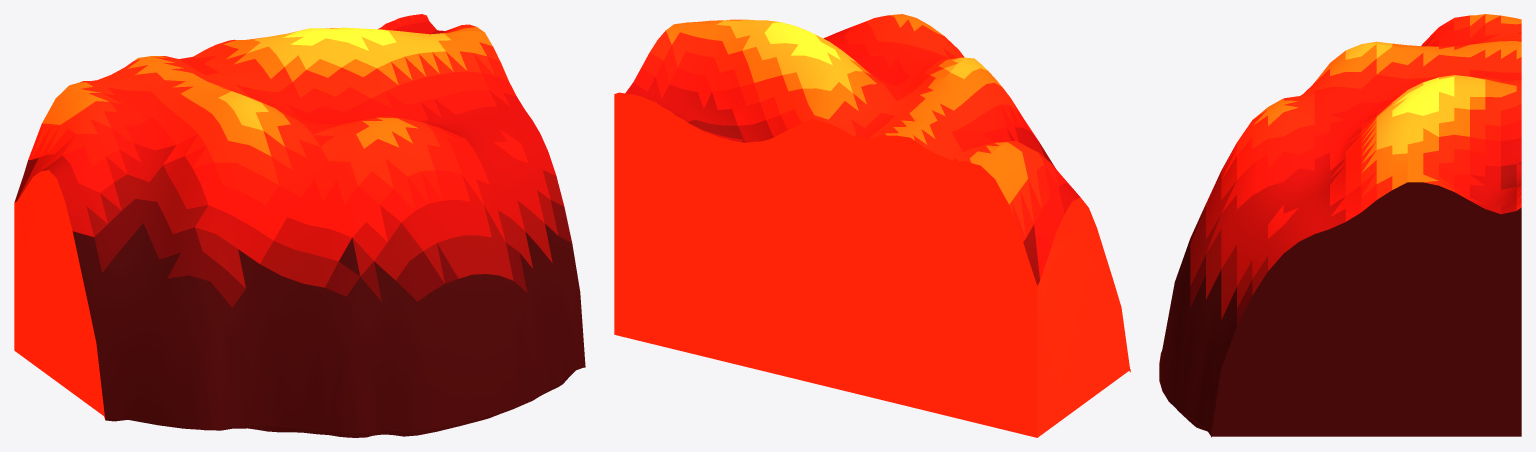
The model's file is core_fire_117.glb.
The picture shows the model from 3 angles, left to right: view 1: azimuth 30°, elevation 25°; view 2: azimuth 150°, elevation 25°; view 3: azimuth 270°, elevation 25°; orthographic projection. The views are drawn at different scales.
Parts seen in each view (by area): view 1: core_fire_117_fire; view 2: core_fire_117_fire; view 3: core_fire_117_fire.
Boxes of the visible parts, x1=… form: core_fire_117_fire: x1=14, y1=14, x2=585, y2=437; core_fire_117_fire: x1=614, y1=14, x2=1130, y2=437; core_fire_117_fire: x1=1159, y1=14, x2=1521, y2=437.
Size of the model in its own units: 18 by 12.22 by 14.
